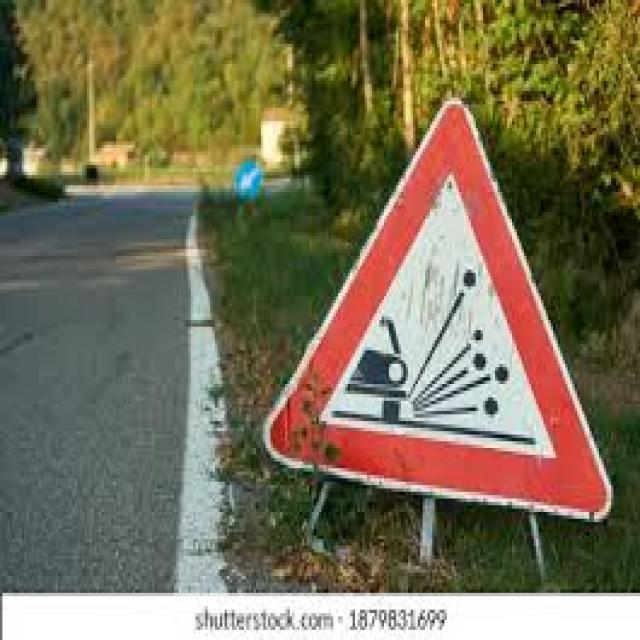loose gravel: (261, 94, 617, 532)
